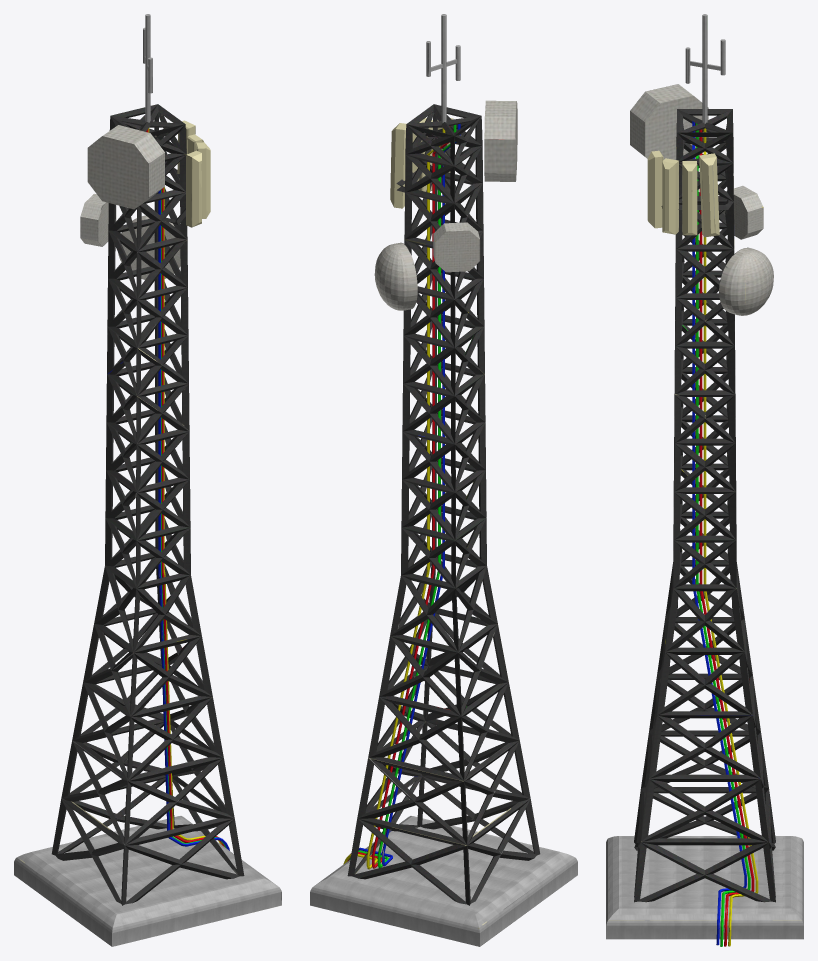
The model's file is radio_tower.glb.
The picture shows the model from 3 angles, left to right: view 1: azimuth 30°, elevation 25°; view 2: azimuth 150°, elevation 25°; view 3: azimuth 270°, elevation 25°; orthographic projection.
Visible parts, largest first — view 1: RadioTower; view 2: RadioTower; view 3: RadioTower.
Part boxes in pixels (x1,y1,x2,y2): RadioTower: (14,14,281,946); RadioTower: (310,14,577,946); RadioTower: (606,14,803,946).
Size of the model in its own units: 12.32 by 59.49 by 12.
1 material, 1 textured.
